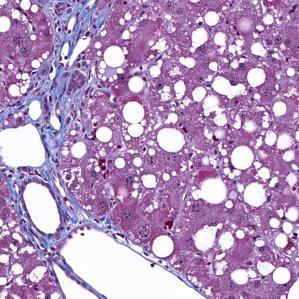fibrosis: (34, 68, 89, 121), (42, 0, 112, 41)
